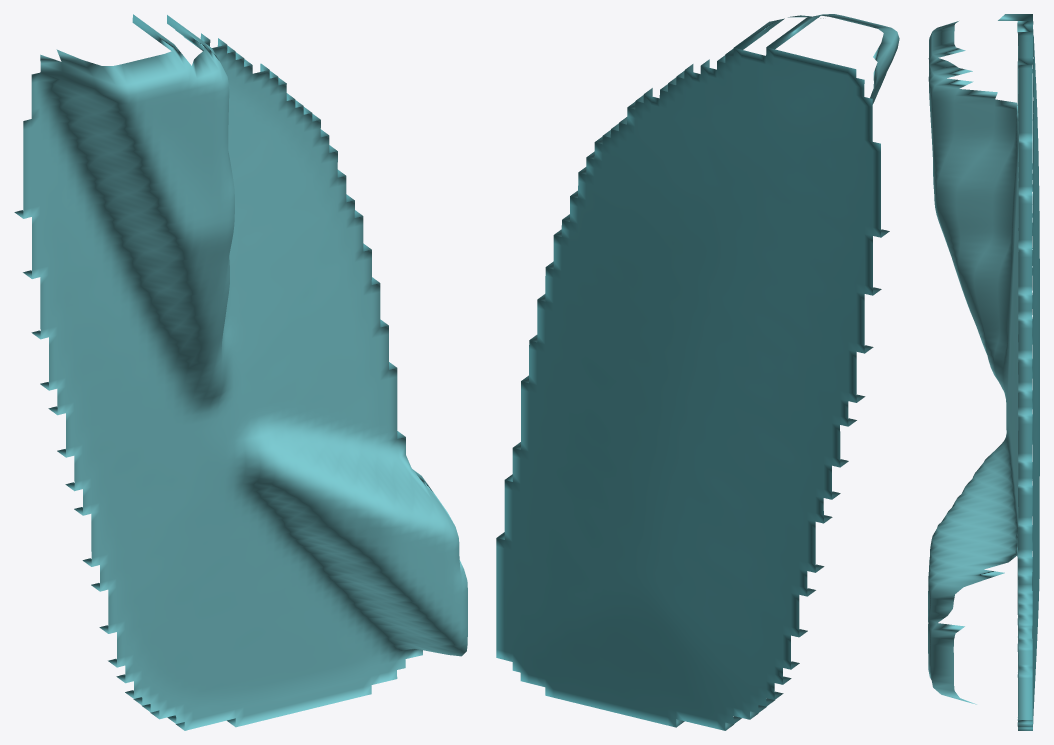
The model's file is PAIR-DRILL-FILL-1ST_LEFT_addon.glb.
The picture shows the model from 3 angles, left to right: view 1: azimuth 30°, elevation 25°; view 2: azimuth 150°, elevation 25°; view 3: azimuth 270°, elevation 25°; orthographic projection. The views are drawn at different scales.
Parts seen in each view (by area): view 1: geometry_0; view 2: geometry_0; view 3: geometry_0.
Part boxes in pixels (x1,y1,x2,y2): geometry_0: (14,14,467,730); geometry_0: (496,14,899,730); geometry_0: (928,14,1039,730).
Size of the model in its own units: 47 by 82 by 14.16.
